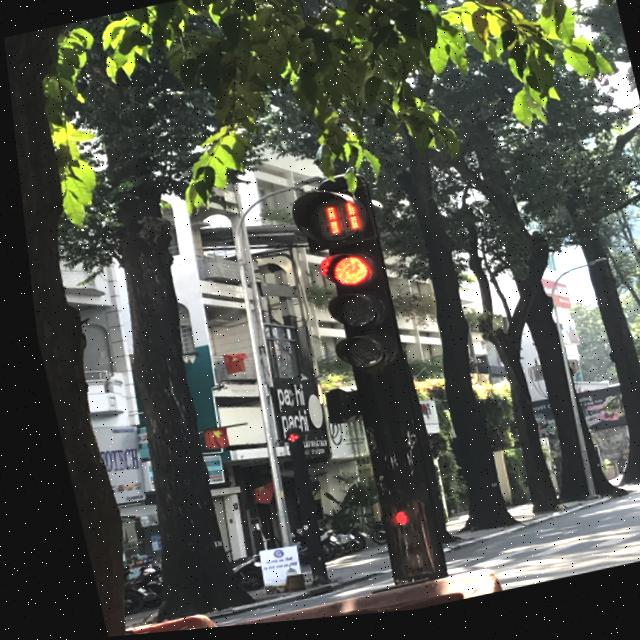Red: (302, 242, 396, 394), (363, 500, 428, 589)
